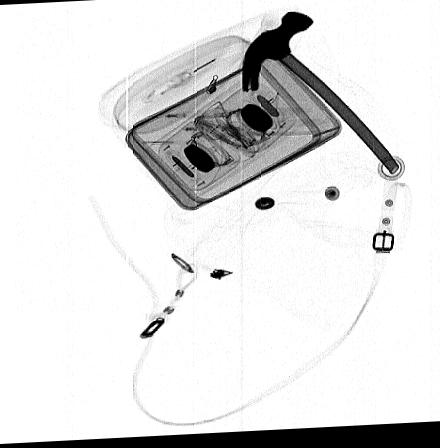Hammer: (242, 13, 400, 178)
